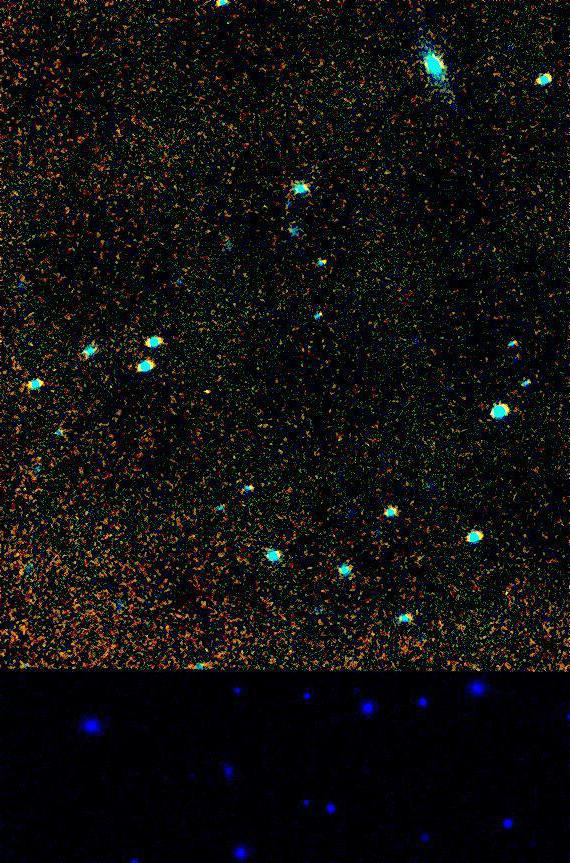star: (194, 378, 224, 408)
